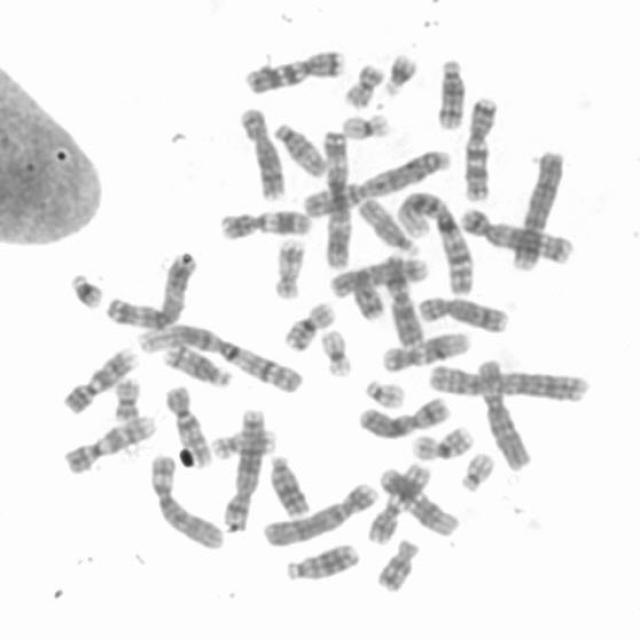A1: (138, 321, 305, 395), (396, 188, 475, 296)
A2: (300, 147, 454, 219), (428, 362, 587, 404)
A3: (103, 250, 196, 332), (320, 128, 352, 269)
B4: (260, 482, 381, 546), (510, 148, 569, 275)
B5: (456, 207, 574, 265), (221, 402, 264, 528)
C10: (327, 257, 431, 300), (163, 384, 212, 468)
C11: (366, 457, 437, 547), (219, 208, 313, 244)
C12: (378, 465, 464, 540), (380, 329, 472, 373)
C6: (149, 452, 227, 554), (477, 354, 533, 471)
C7: (245, 48, 346, 96), (462, 96, 499, 204)
C8: (238, 106, 286, 201), (419, 293, 509, 334)
C9: (62, 411, 158, 474), (64, 346, 140, 415)
D13: (283, 544, 360, 586), (267, 452, 312, 518)
D14: (156, 340, 233, 390), (433, 56, 467, 130)
D15: (359, 195, 420, 257), (273, 121, 326, 180)
E16: (282, 300, 335, 355), (412, 421, 475, 463)
E17: (210, 426, 281, 462), (271, 236, 305, 301)
E18: (372, 538, 418, 593), (346, 270, 386, 321)
F19: (318, 328, 353, 382), (339, 114, 390, 142)
F20: (343, 61, 388, 109), (112, 374, 141, 422)
G21: (383, 54, 419, 96), (70, 270, 104, 314)
G22: (456, 449, 496, 495), (363, 378, 405, 410)
X: (355, 395, 452, 441), (381, 250, 425, 348)
